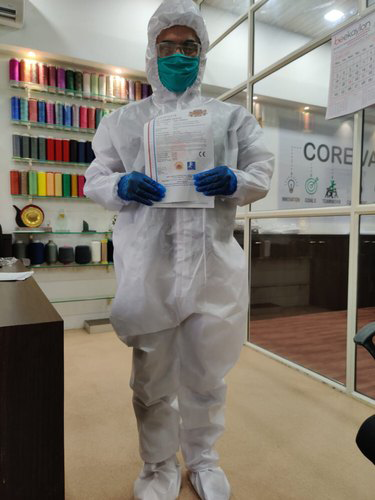Coverall: (90, 1, 267, 467)
Gloves: (117, 167, 169, 208), (190, 161, 242, 200)
with_mask: (155, 41, 202, 94)
